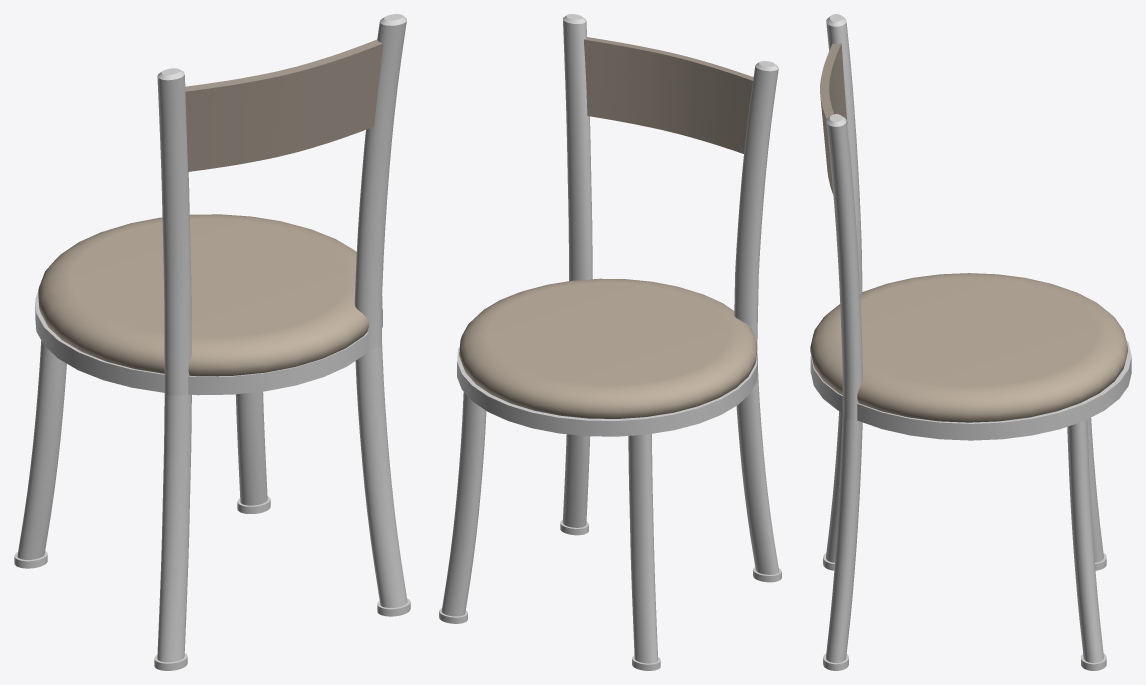
File: Chaise4_3.fbx
The picture shows the model from 3 angles, left to right: view 1: azimuth 30°, elevation 25°; view 2: azimuth 150°, elevation 25°; view 3: azimuth 270°, elevation 25°; orthographic projection. The views are drawn at different scales.
Parts seen in each view (by area): view 1: pCylinder1681, pCube2685, pCylinder1674, pCylinder1675, pCylinder1678, pCylinder1677, pCylinder1680, pCylinder1673, pCylinder1676; view 2: pCylinder1681, pCube2685, pCylinder1674, pCylinder1675, pCylinder1680, pCylinder1673, pCylinder1676, pCylinder1678, pCylinder1677; view 3: pCylinder1681, pCylinder1675, pCylinder1680, pCylinder1677, pCylinder1676, pCylinder1674, pCube2685, pCylinder1678, pCylinder1673.
Part boxes in pixels (<box>): pCylinder1681: <box>38,214,382,376</box>; pCube2685: <box>185,39,383,171</box>; pCylinder1674: <box>157,68,191,395</box>; pCylinder1675: <box>354,14,406,349</box>; pCylinder1678: <box>154,393,191,670</box>; pCylinder1677: <box>355,344,410,616</box>; pCylinder1680: <box>35,291,382,395</box>; pCylinder1673: <box>14,340,66,568</box>; pCylinder1676: <box>235,391,270,513</box>; pCylinder1681: <box>459,278,757,418</box>; pCube2685: <box>584,37,753,153</box>; pCylinder1674: <box>734,61,778,343</box>; pCylinder1675: <box>563,14,592,281</box>; pCylinder1680: <box>457,346,757,436</box>; pCylinder1673: <box>628,434,660,670</box>; pCylinder1676: <box>439,392,486,623</box>; pCylinder1678: <box>736,370,781,582</box>; pCylinder1677: <box>560,434,590,535</box>; pCylinder1681: <box>810,273,1127,422</box>; pCylinder1675: <box>826,114,862,419</box>; pCylinder1680: <box>810,340,1131,440</box>; pCylinder1677: <box>823,416,862,670</box>; pCylinder1676: <box>1067,420,1106,670</box>; pCylinder1674: <box>826,14,862,294</box>; pCube2685: <box>820,43,847,194</box>; pCylinder1678: <box>823,411,842,570</box>; pCylinder1673: <box>1087,417,1106,570</box>.
Bounding box in the file's own units: 44.91 × 84.31 × 44.99.
